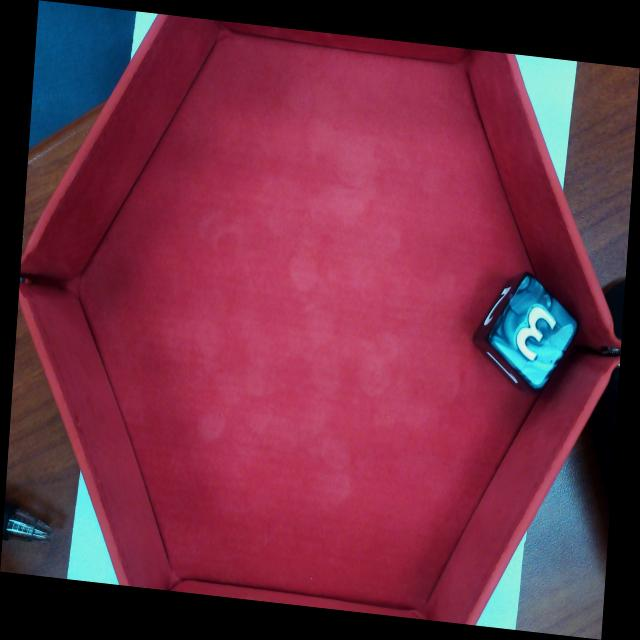dice: (494, 278, 576, 387)
